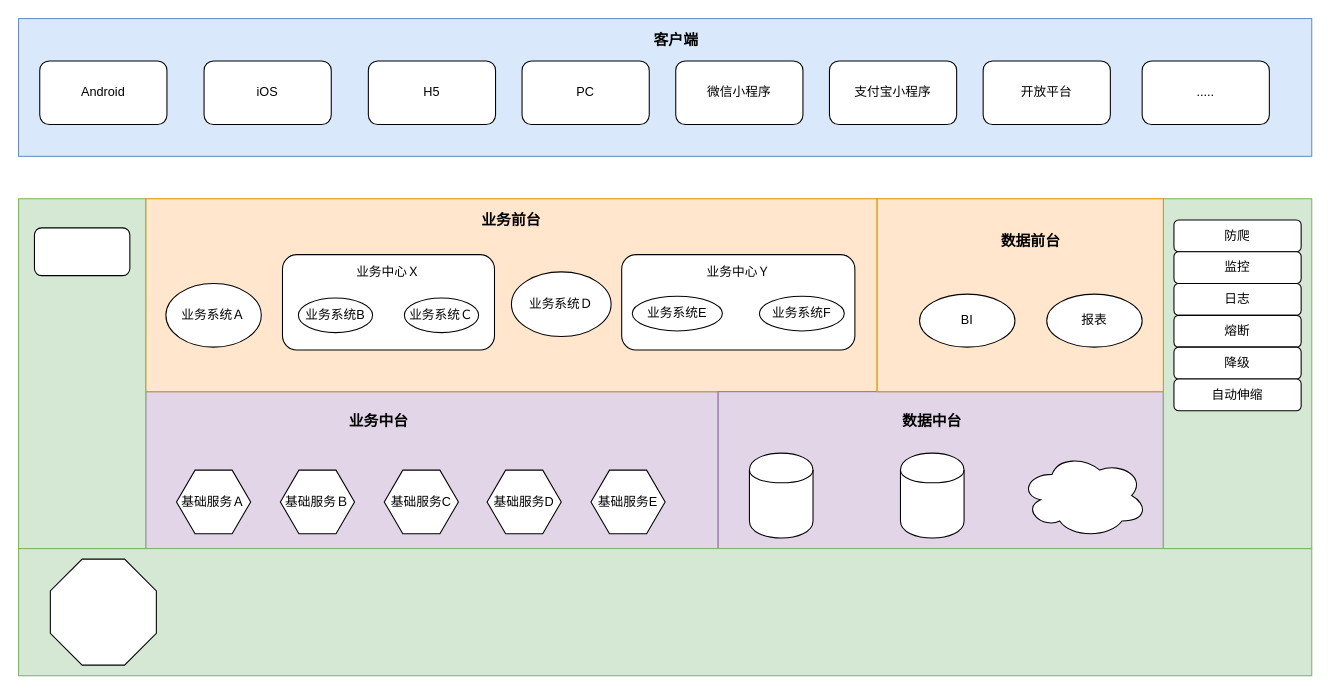
The diagram is 1330 pixels wide and 694 high, and some of its shapes have lost their labels. Each missing label, with the centre of its shape:
"CI/CD" belongs at (81,251).
"容器化" belongs at (102,611).
